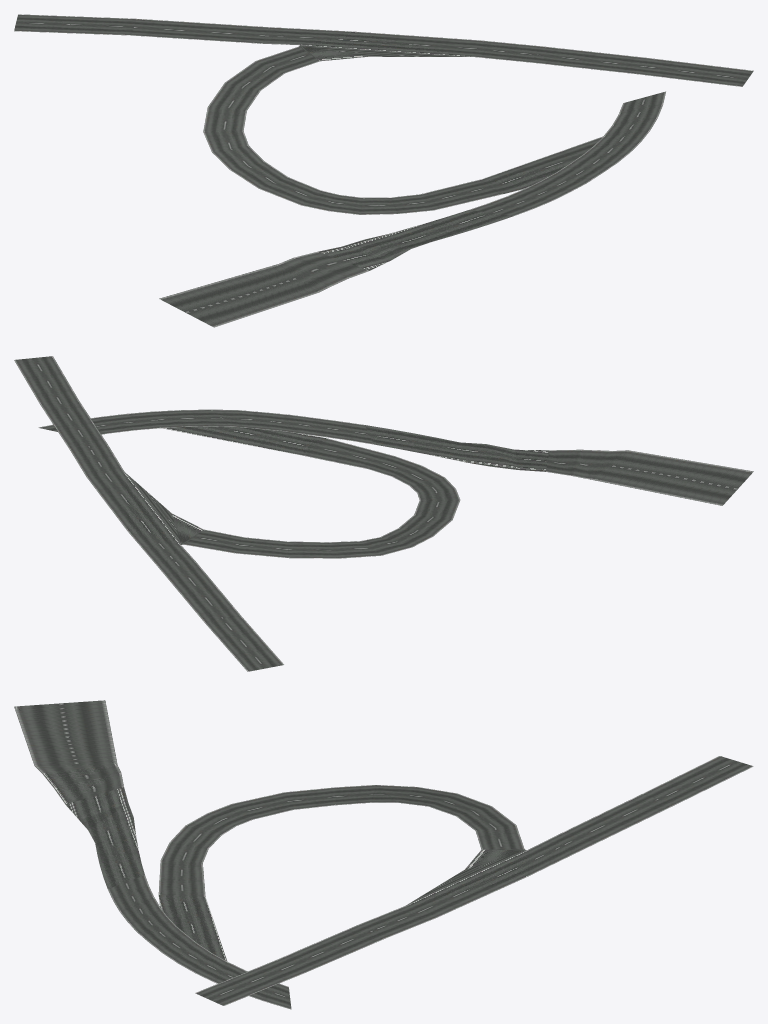
File: lodcuntwroad16.obj
3 views of the same model, one above another, from view 1: azimuth 30°, elevation 25°; view 2: azimuth 150°, elevation 25°; view 3: azimuth 270°, elevation 25° (orthographic). The views are drawn at different scales.
Visible parts, largest first — view 1: LODcuntwroad16; view 2: LODcuntwroad16; view 3: LODcuntwroad16.
Part boxes in pixels (left/top/right/bottom): LODcuntwroad16: left=14, top=14, right=753, bottom=327; LODcuntwroad16: left=14, top=356, right=753, bottom=671; LODcuntwroad16: left=14, top=700, right=753, bottom=1009.
Size of the model in its own units: 226 by 11.41 by 211.
Materials: 1 (1 with a texture image).
